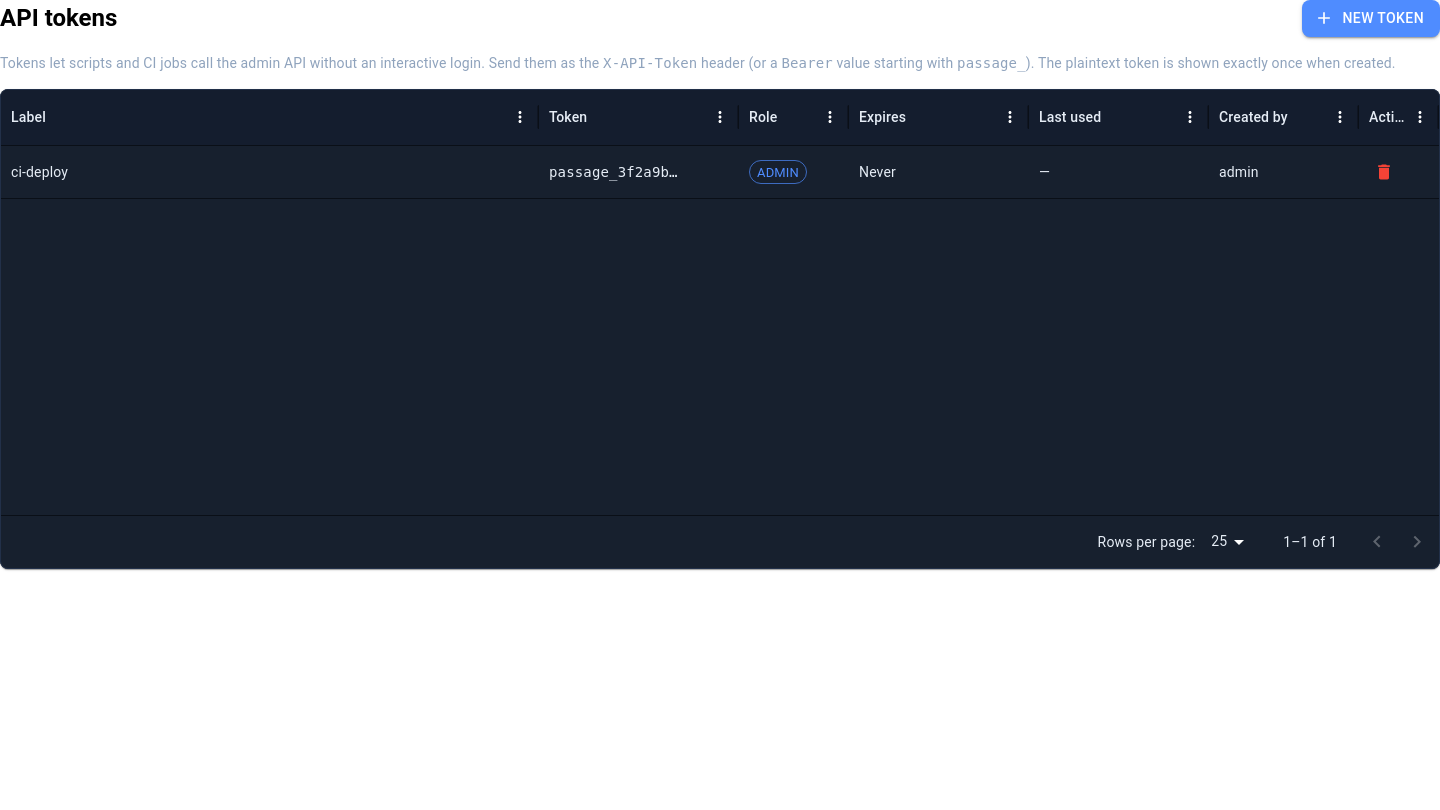
Test case: ApiTokensPage › creates a token and shows the one-time plaintext
Check: the text "ci-deploy" is shown, box x1=11 y1=164 x2=68 y2=180
Click the button "New token". click: (1371, 18)
box: x1=1302 y1=0 x2=1439 y2=36
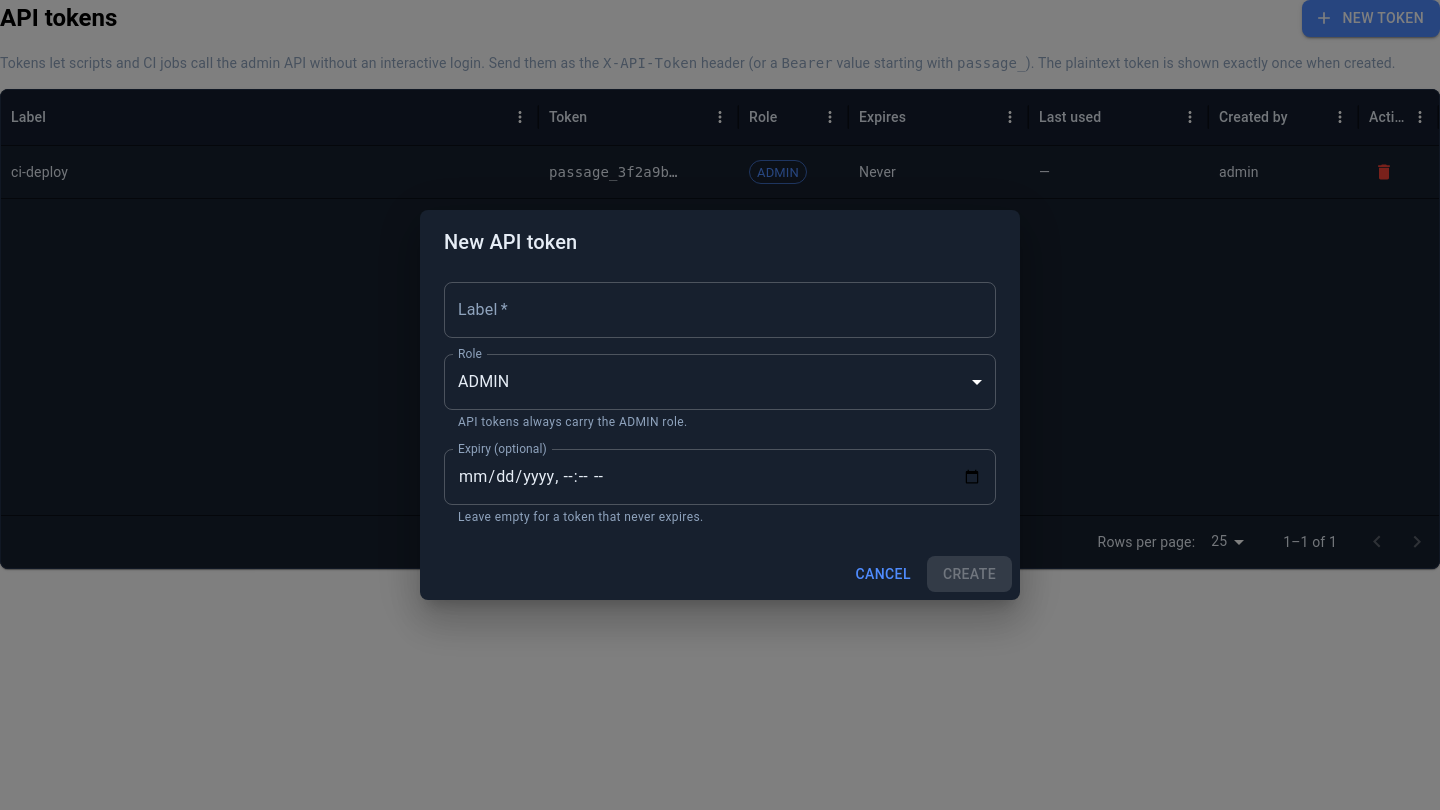
Type "nightly-report" into the field labelled "Label *". click: (720, 310)
box: x1=444 y1=282 x2=996 y2=338
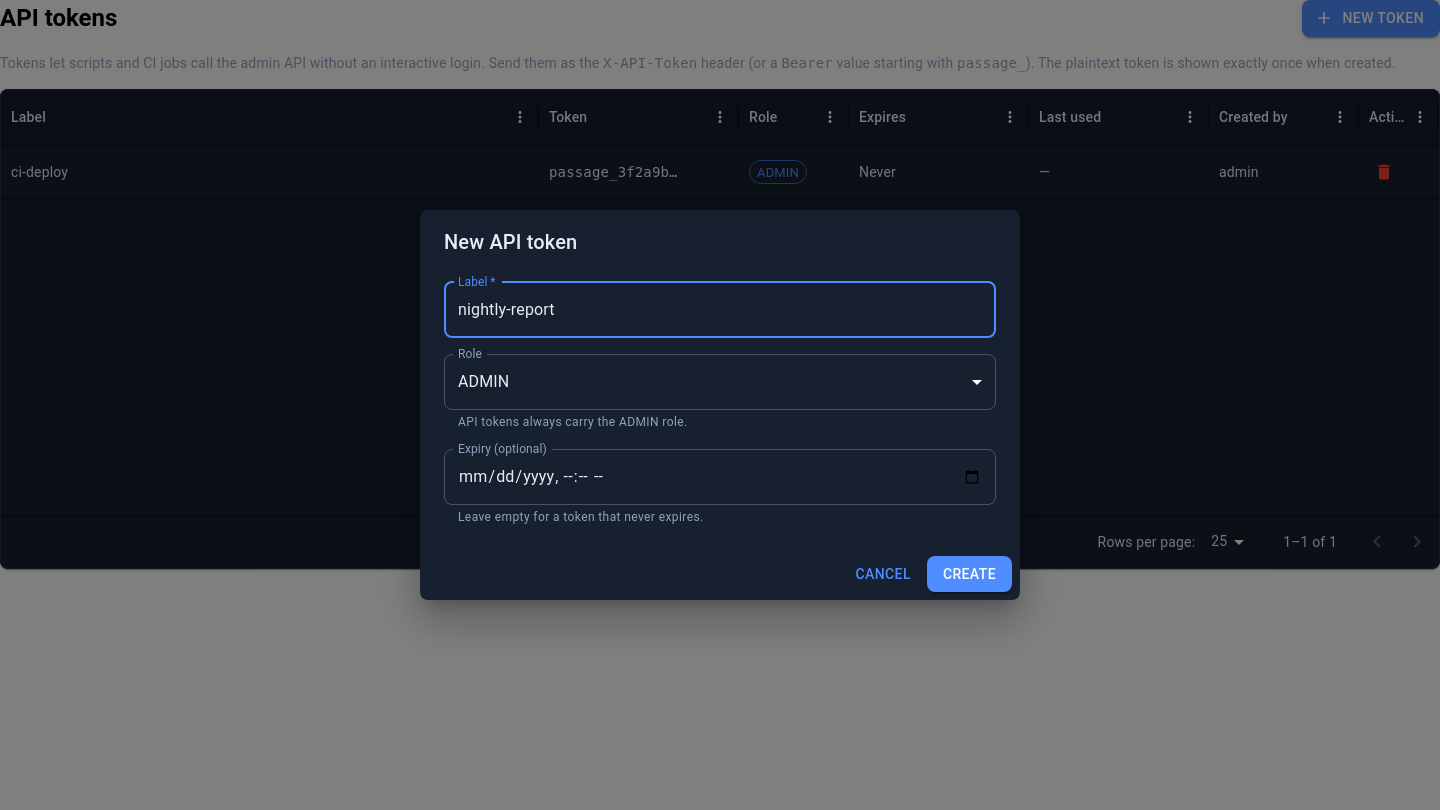
Click the button "Create". click: (969, 574)
box: x1=927 y1=556 x2=1012 y2=592
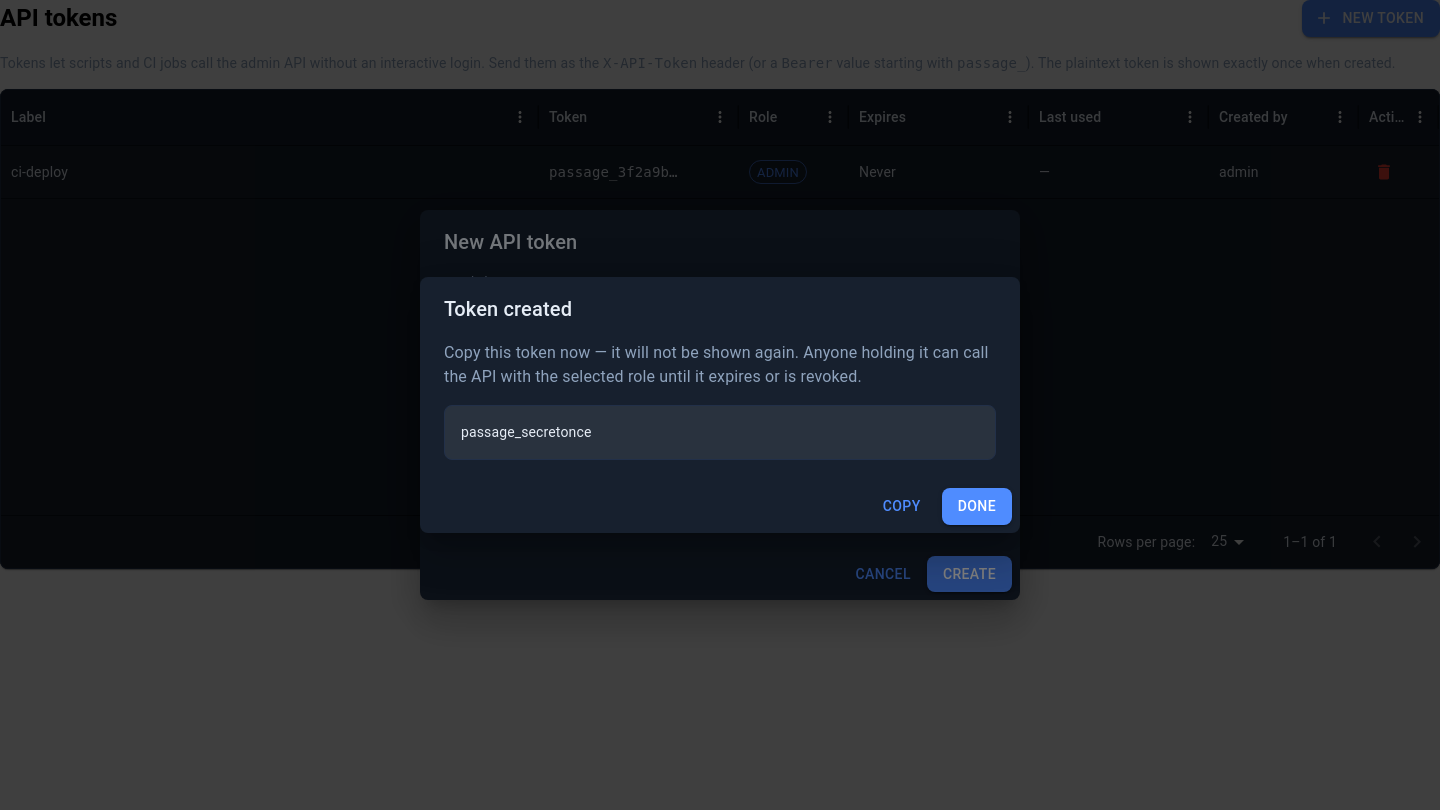
Check: the text "passage_secretonce" is shown, box x1=461 y1=424 x2=591 y2=440
